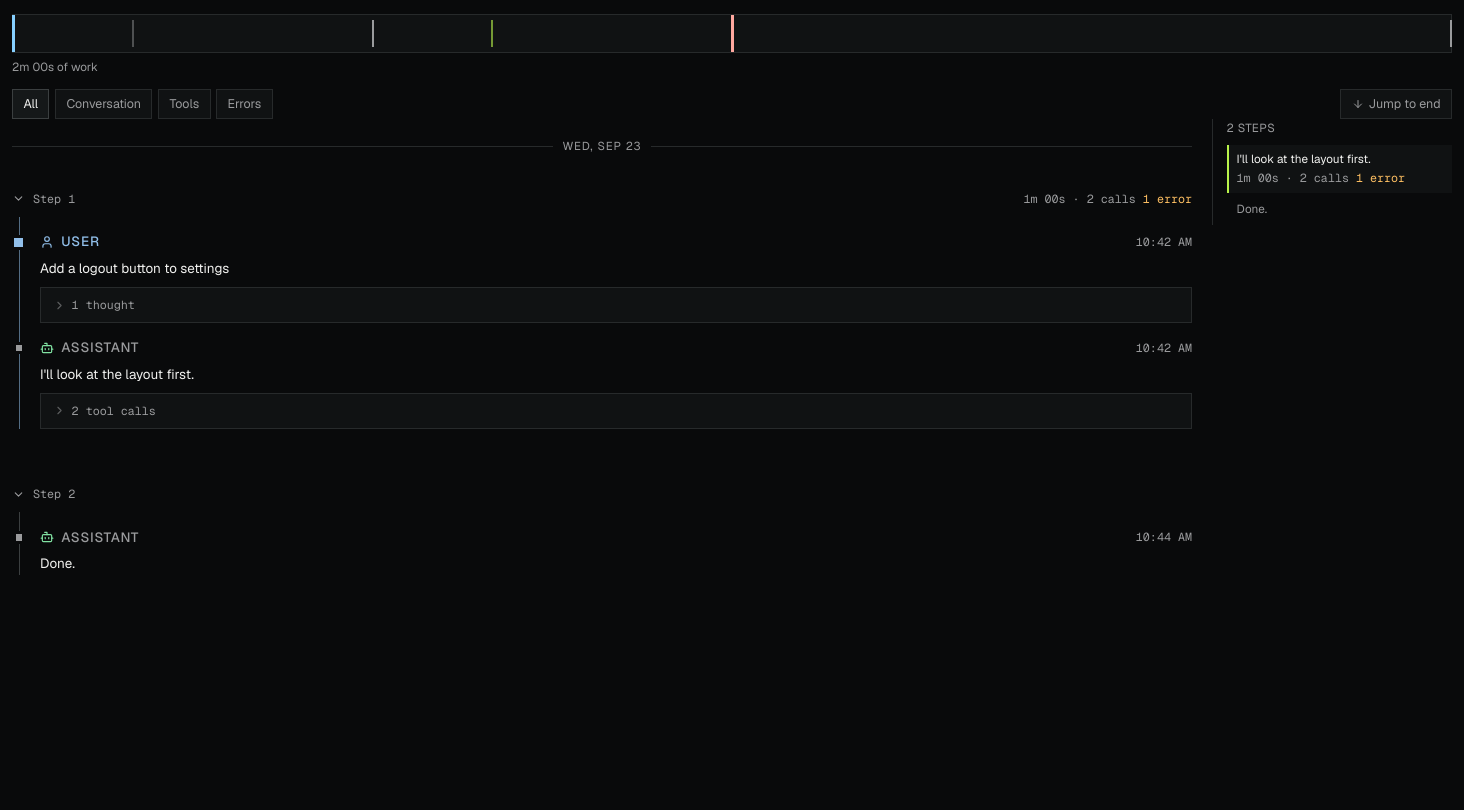
Test case: TranscriptView › renders turn-grouped messages with a tool cluster
Expected: the text "Add a logout button to settings" is shown, [40,259,229,277]
Expected: the text "2 tool calls" is shown, [72,402,156,420]
Click the button "1 thought" at (103, 305), box [41,288,1191,322]
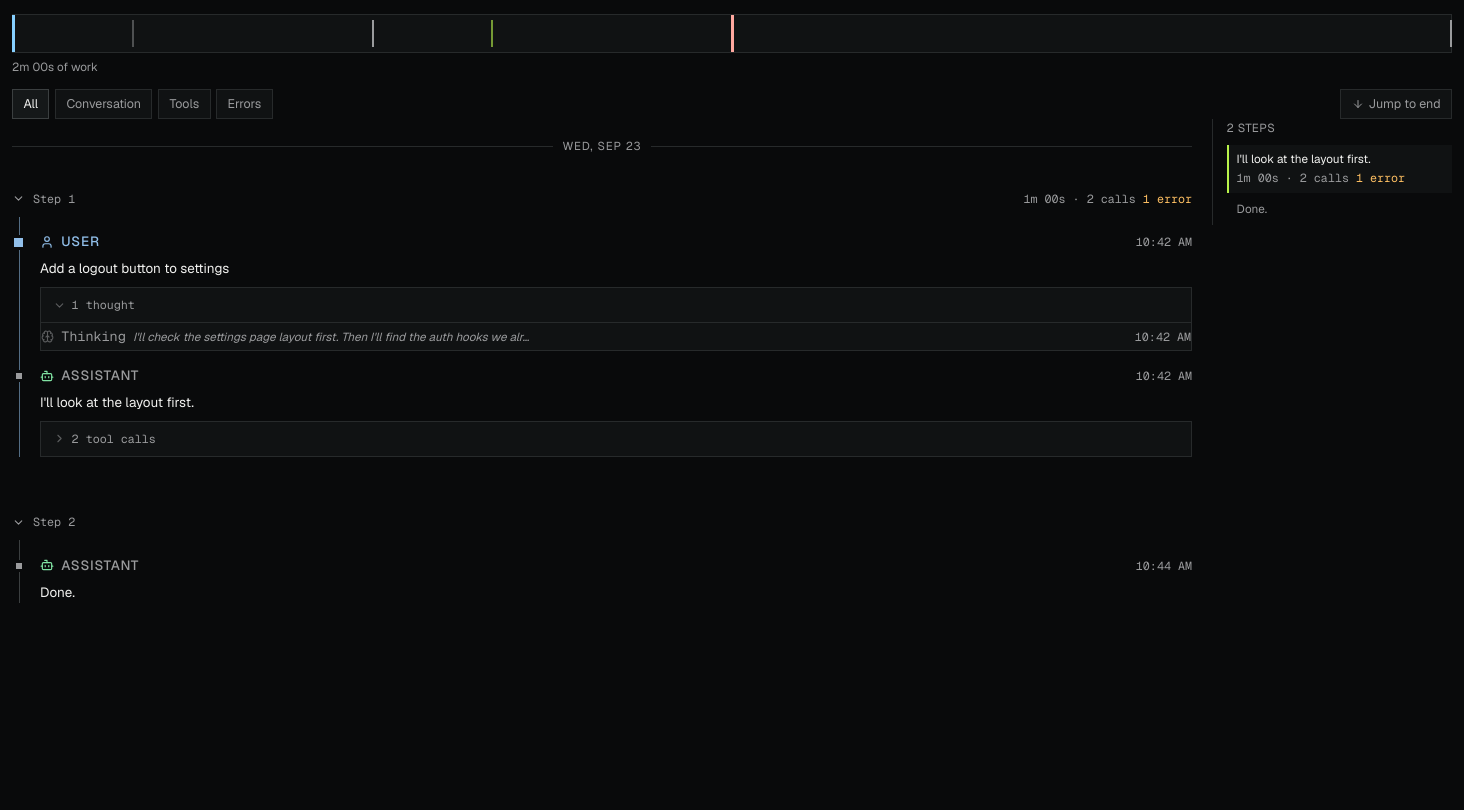
Click the button "2 tool calls" at (114, 439), box [41,422,1191,456]
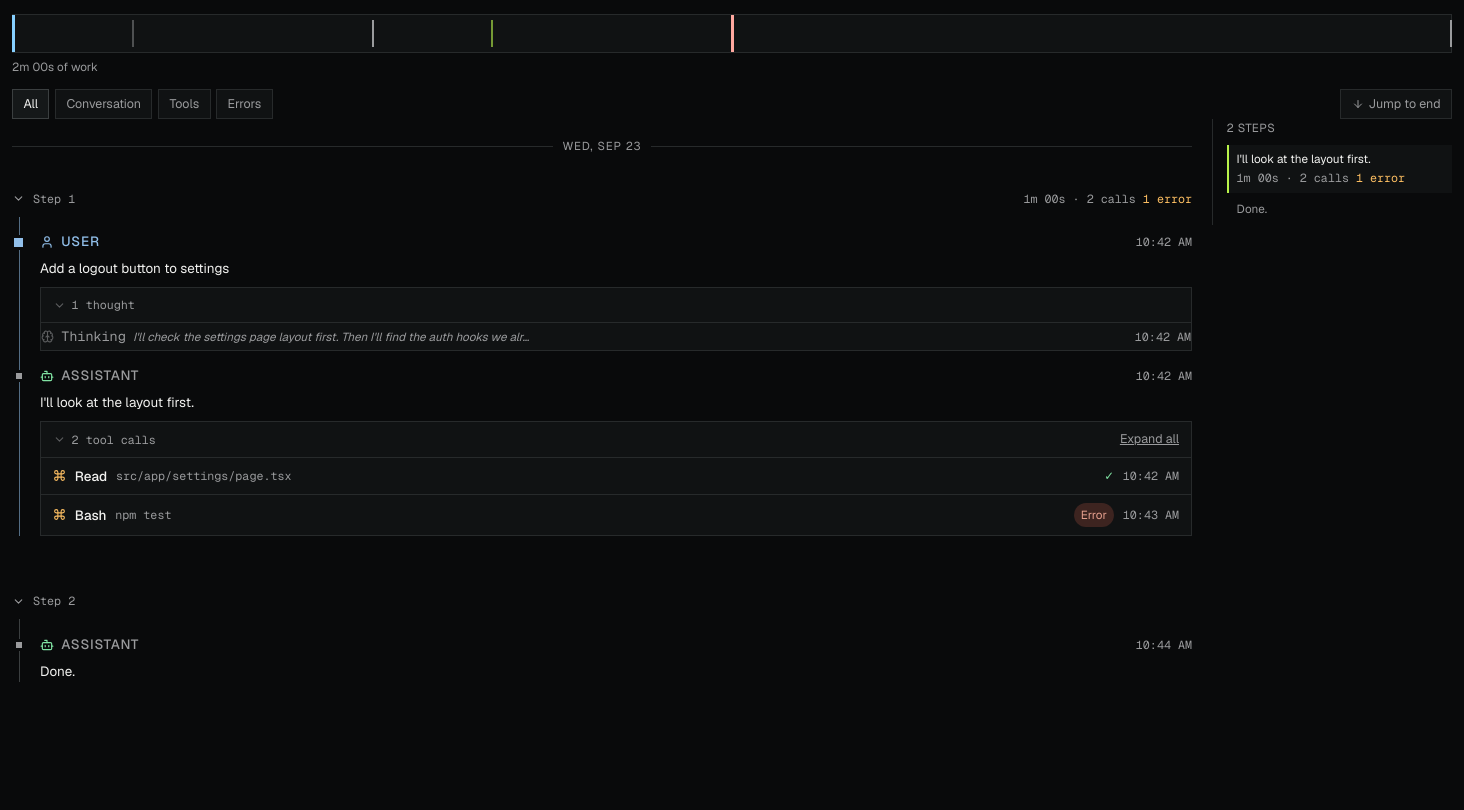
Now the text "Read" is shown, box [75,466,107,486]
Now the text "src/app/settings/page.tsx" is shown, box [116,468,292,483]
Now the text "Error" is shown, box [1074,503,1114,527]
